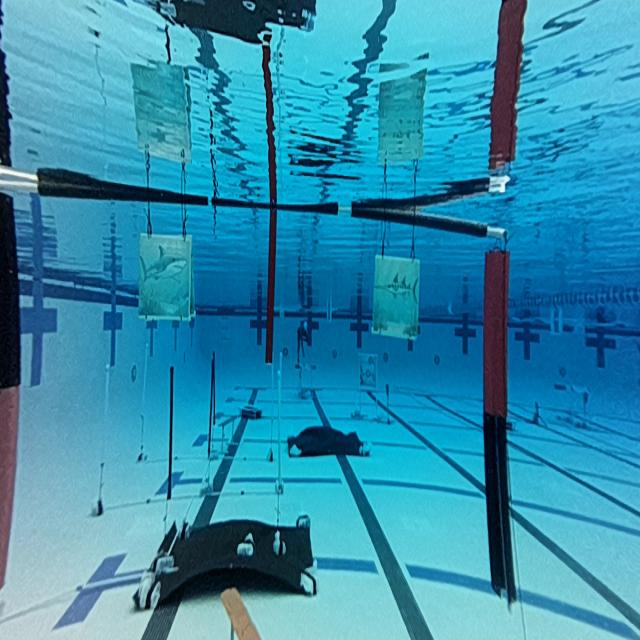pointed_nose: (372, 256, 422, 338)
round_nose: (137, 234, 193, 322)
